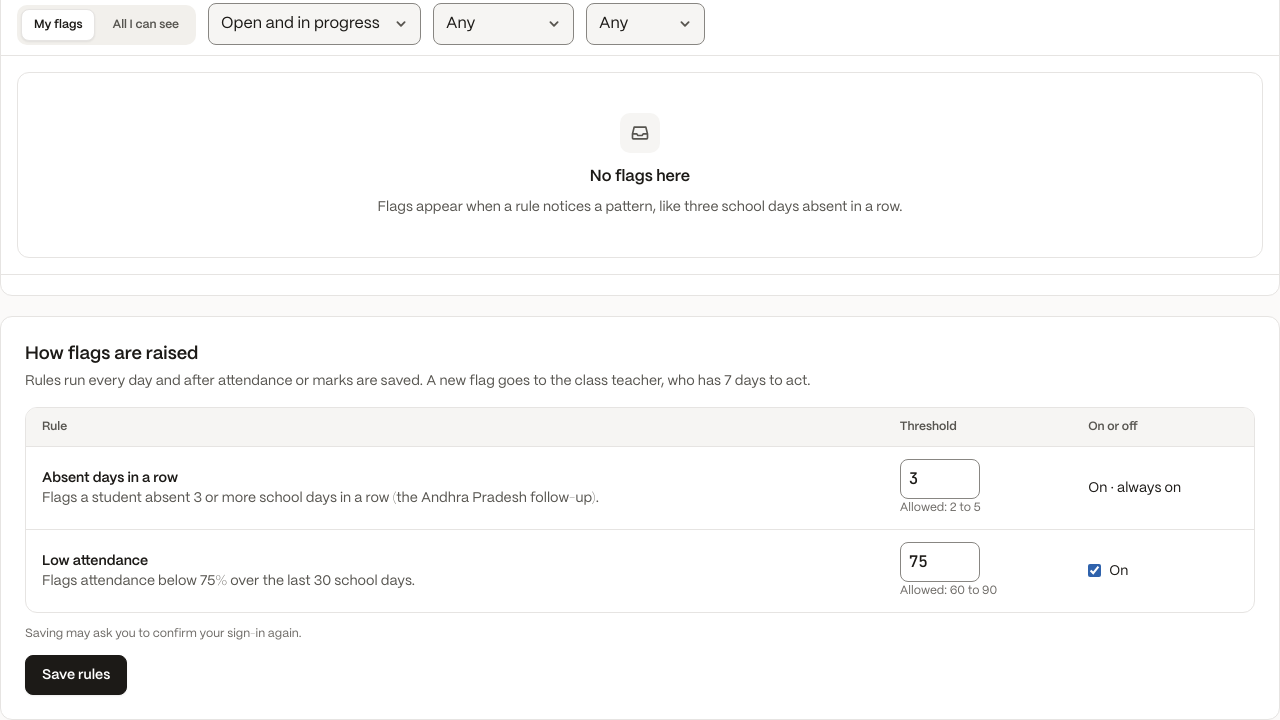
Test: flags list (US-1705, US-1706, US-1708; FR-EW-009, FR-EW-015) › the principal saves thresholds with If-Match; the AP rule cannot be switched off
(page scrolled)
Replace the text in the number field named "Threshold for Low attendance (60 to 90)" with "80" at [940, 562], box [900,542,980,582]
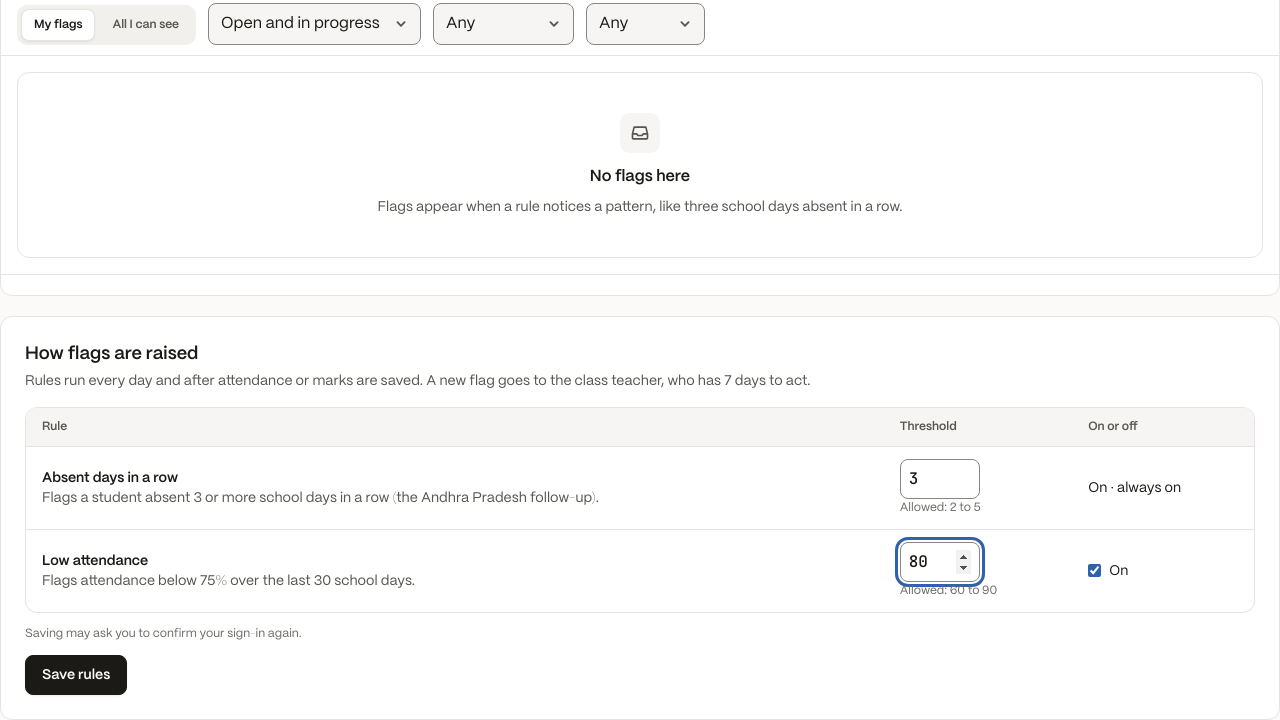
Check: the number of checkboxes is 1, box [1088,564,1101,577]
Click the button "Save rules" at [76, 675], box [25,655,127,695]
(page scrolled)
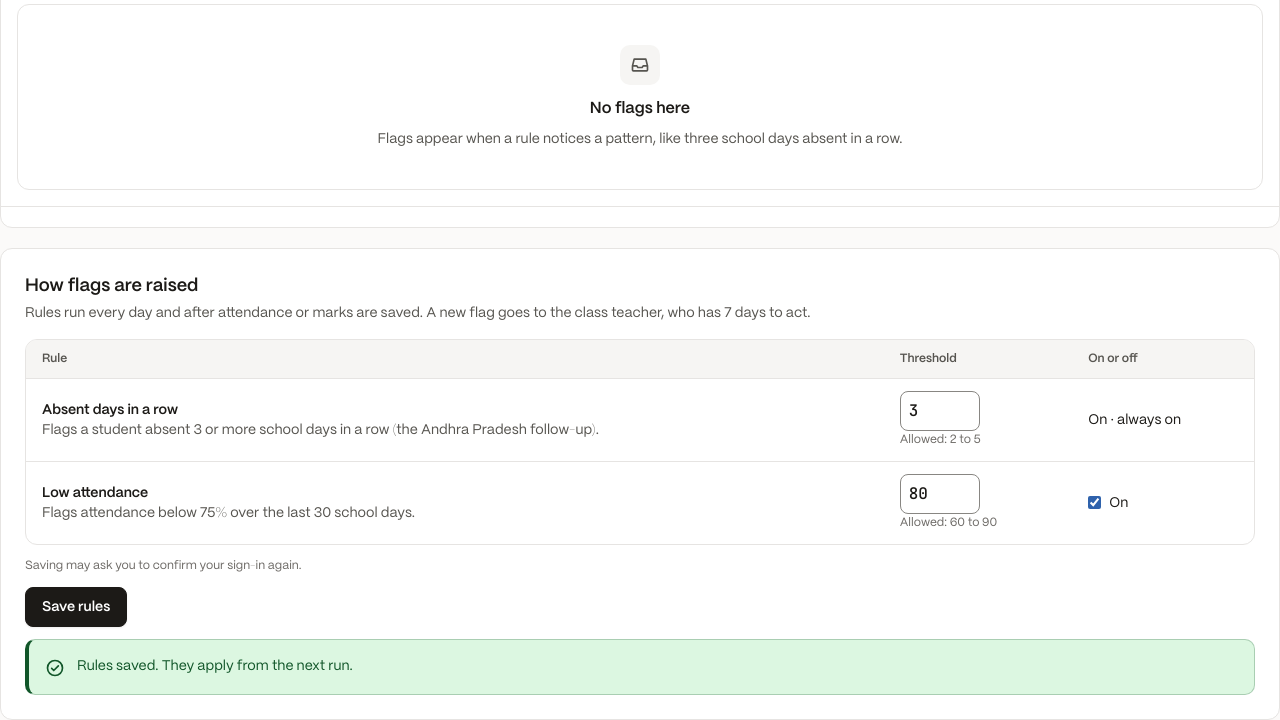
Check: the text "Rules saved. They apply from the next run." is shown, box [77,659,353,673]
